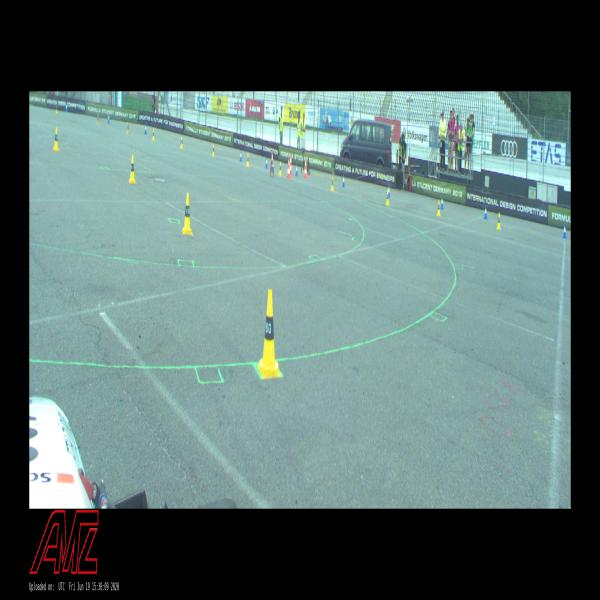blue_cone: (562, 224, 566, 238), (484, 206, 487, 218), (342, 175, 345, 187), (295, 164, 298, 175), (388, 185, 390, 198), (441, 197, 443, 209), (266, 156, 268, 167), (144, 124, 146, 134), (240, 150, 242, 160), (180, 134, 182, 144), (108, 114, 110, 123), (66, 104, 68, 112)
large_orange_cone: (270, 151, 274, 175), (286, 157, 290, 178), (304, 159, 307, 178), (290, 155, 292, 174)
yellow_cone: (257, 290, 280, 377), (183, 193, 192, 234), (130, 155, 136, 183), (54, 128, 58, 150), (497, 213, 500, 229), (437, 200, 440, 215), (386, 191, 389, 205), (331, 177, 334, 190), (279, 162, 282, 175), (246, 154, 249, 166), (180, 137, 183, 148), (212, 144, 214, 156), (127, 122, 129, 133), (97, 114, 99, 124), (153, 129, 154, 140), (56, 105, 57, 113)
